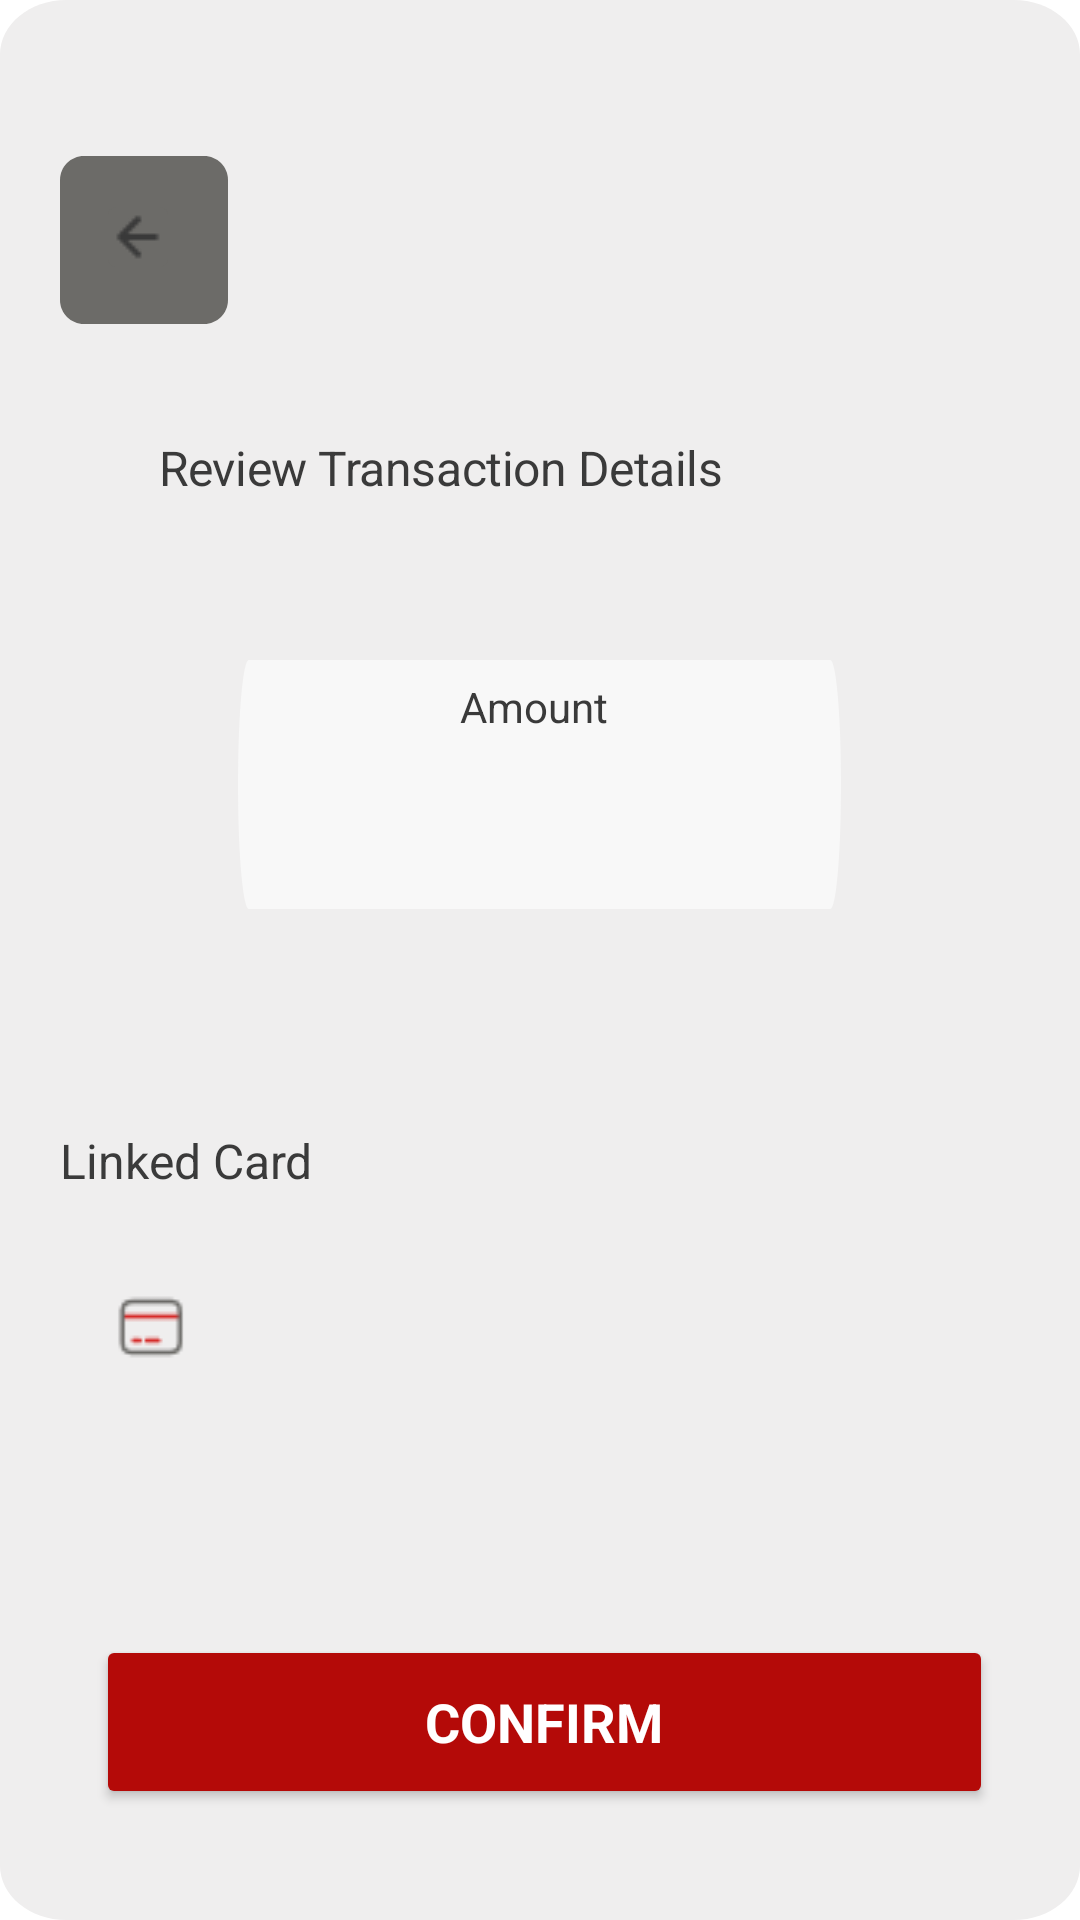

Locate icon controls on the screen. Image size 1080w x 1920h, boxes as {"x1": x1, "y1": y1, "x2": x2, "y2": y2}.
Back icon: {"x1": 118, "y1": 217, "x2": 158, "y2": 257}
